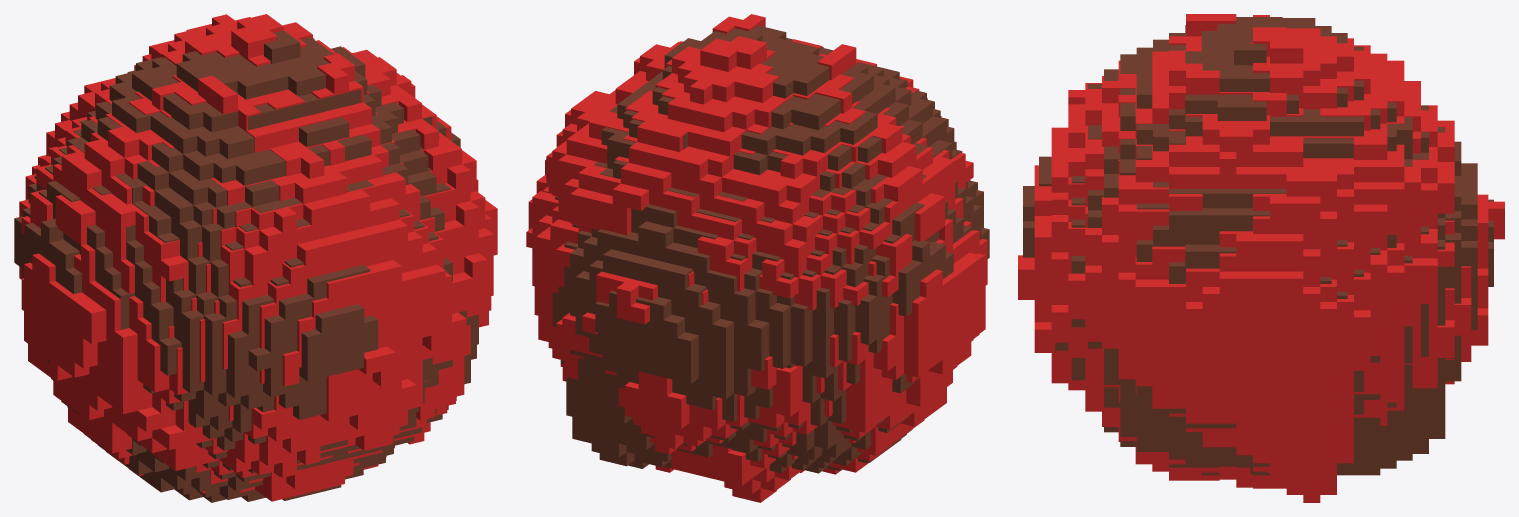
The model's file is Meatball For game.fbx.
The picture shows the model from 3 angles, left to right: view 1: azimuth 30°, elevation 25°; view 2: azimuth 150°, elevation 25°; view 3: azimuth 270°, elevation 25°; orthographic projection. The views are drawn at different scales.
Visible parts, largest first — view 1: Sphere, Sphere.001; view 2: Sphere, Sphere.001; view 3: Sphere, Sphere.001.
Part boxes in pixels (box(x1,y1,x2,y2)): Sphere: box(19, 14, 497, 501); Sphere.001: box(14, 30, 478, 502); Sphere: box(526, 14, 987, 502); Sphere.001: box(552, 25, 989, 473); Sphere: box(1018, 14, 1504, 502); Sphere.001: box(1023, 17, 1493, 475).
Size of the model in its own units: 197 by 211 by 211.
